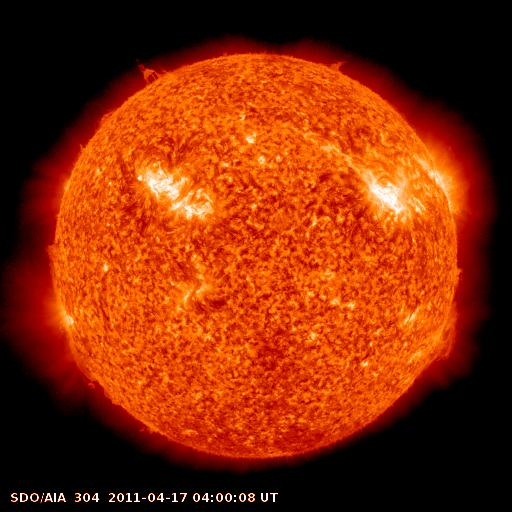prominence: (419, 257, 468, 374), (58, 334, 103, 388), (130, 56, 179, 97), (35, 237, 67, 281), (321, 50, 353, 81)
